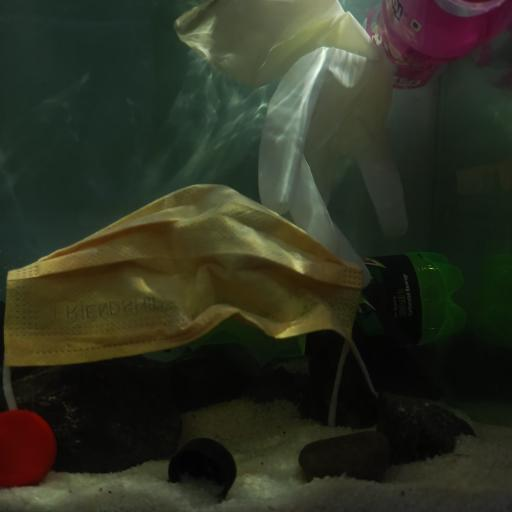bottle_cap: (168, 436, 238, 502), (0, 408, 56, 488)
glove: (173, 1, 410, 289)
mask: (0, 181, 369, 391)
plastic_bottle: (190, 254, 469, 349), (364, 0, 512, 91)
